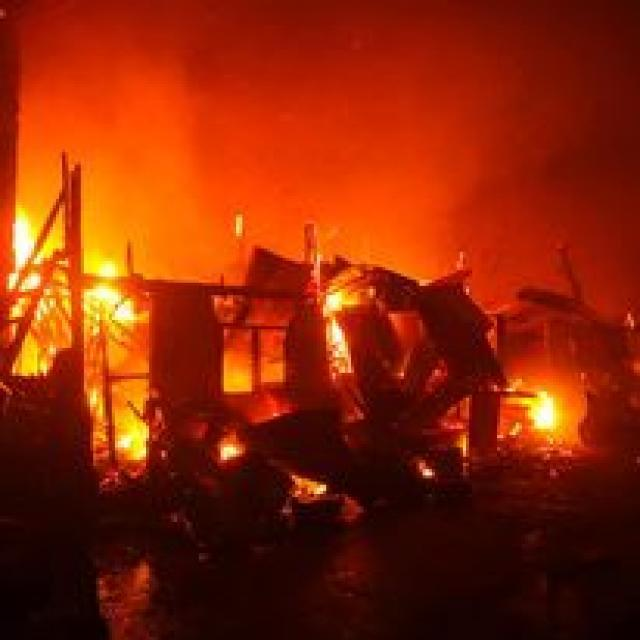Fire: (4, 207, 152, 343), (310, 274, 370, 389), (518, 378, 574, 456)
Smoke: (0, 0, 640, 385)
